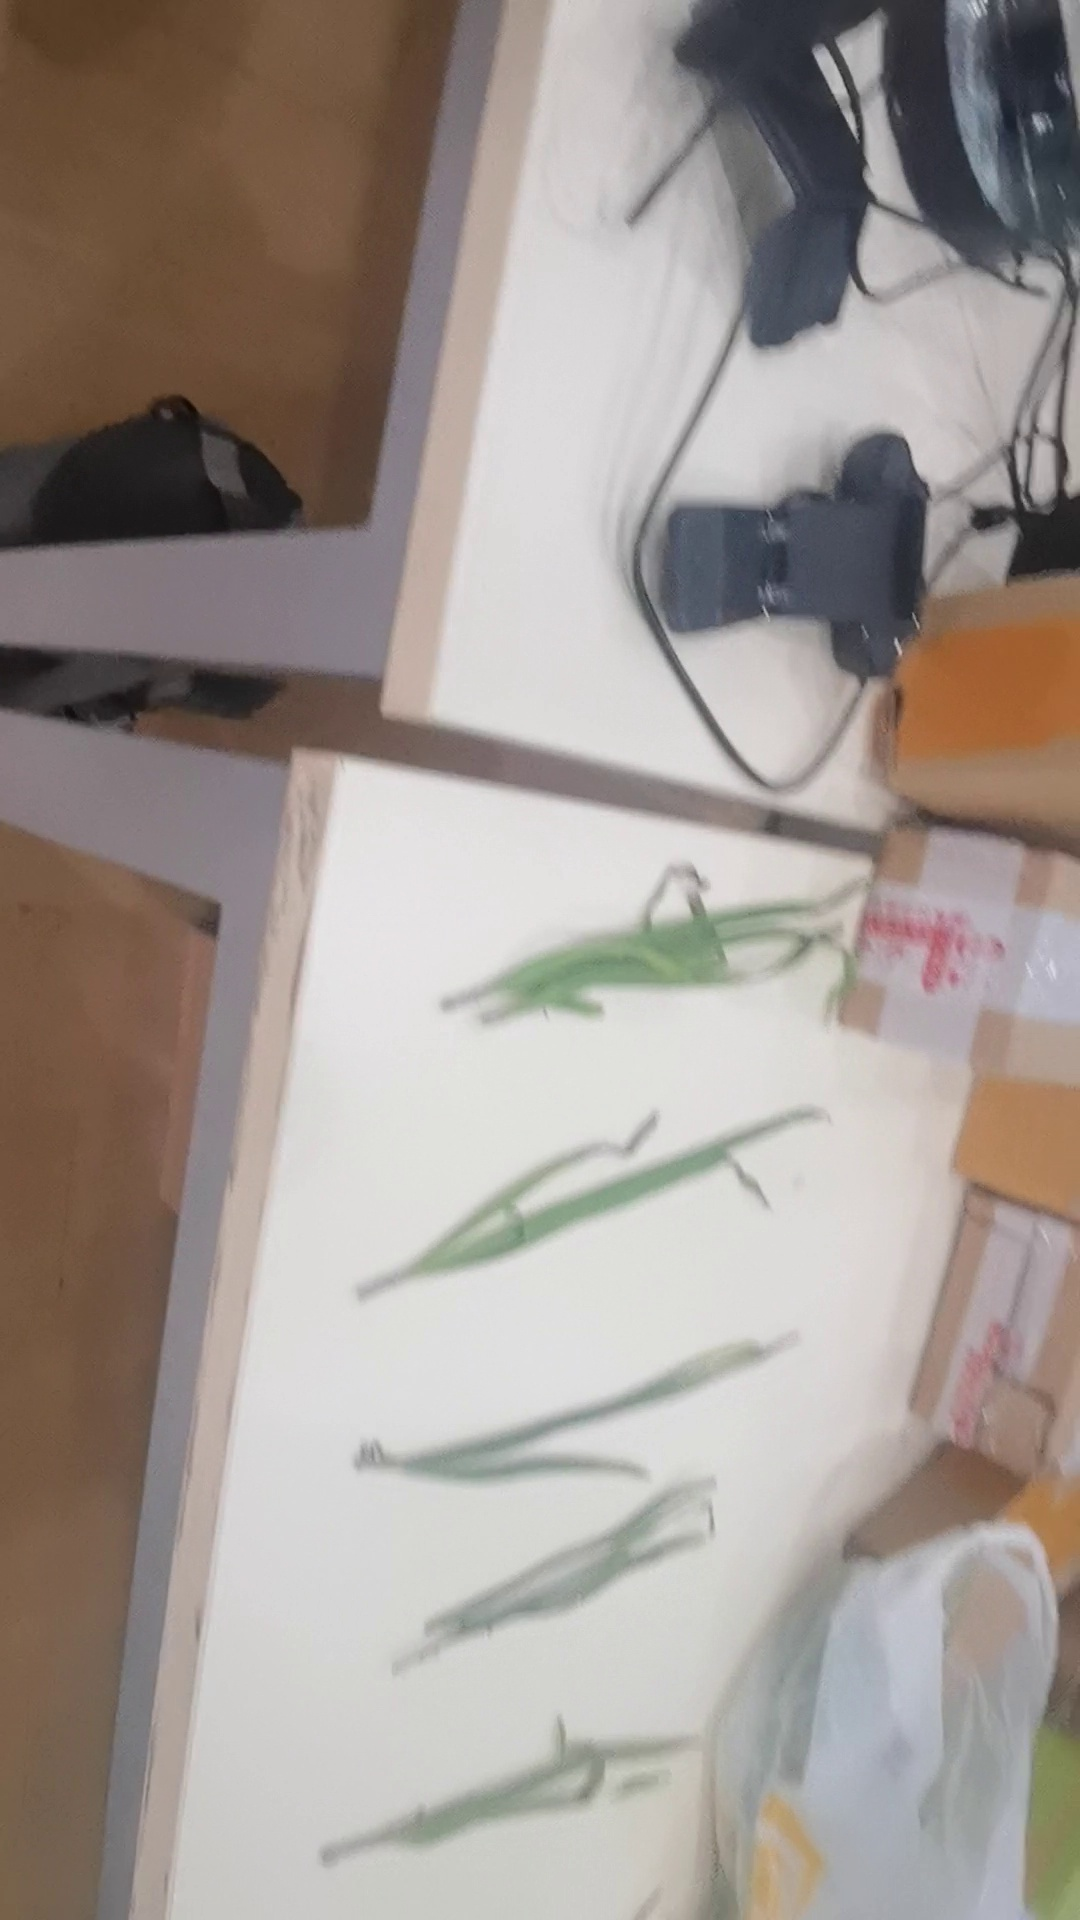chives: (328, 1116, 902, 1307), (406, 856, 905, 1036), (330, 1474, 767, 1669), (316, 1329, 804, 1498), (330, 1727, 732, 1876)
